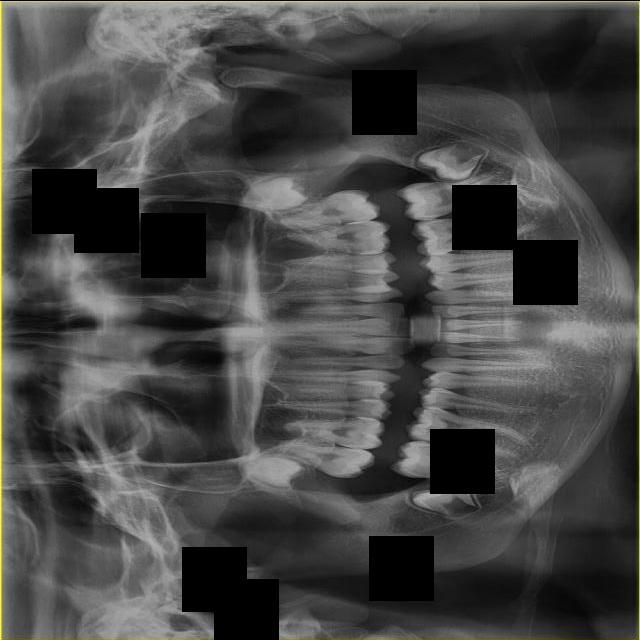Sterngold Implant: (424, 219, 444, 239), (352, 423, 369, 441), (420, 418, 437, 436), (355, 417, 369, 426), (365, 230, 373, 244)
